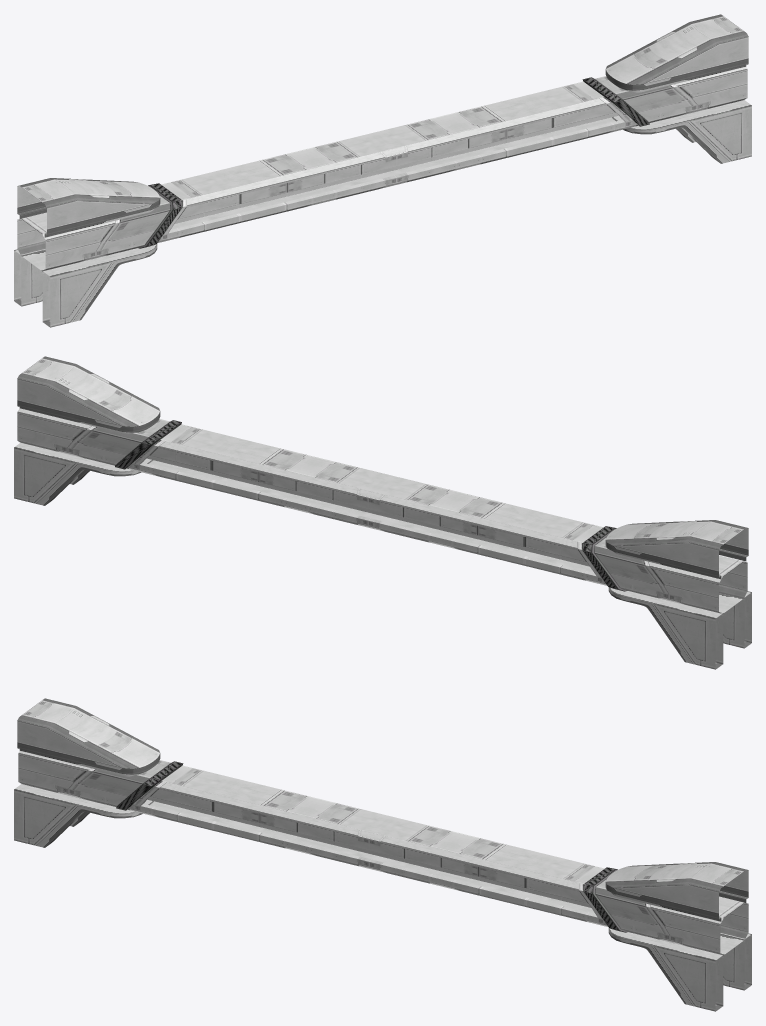
Rendered from PRS_VISTABR.FBX.
The picture shows the model from 3 angles, top to bottom: view 1: azimuth 30°, elevation 25°; view 2: azimuth 150°, elevation 25°; view 3: azimuth 330°, elevation 25°; orthographic projection.
Visible parts, largest first — view 1: PRS_VISTABR; view 2: PRS_VISTABR; view 3: PRS_VISTABR.
Boxes of the visible parts, box(x1,y1,x2,y2) form: PRS_VISTABR: box(14, 14, 751, 327); PRS_VISTABR: box(14, 356, 751, 669); PRS_VISTABR: box(14, 698, 751, 1011).
Bounding box in the file's own units: 360 × 58.53 × 32.18.
